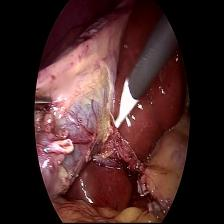Hook: (106, 74, 141, 132)
